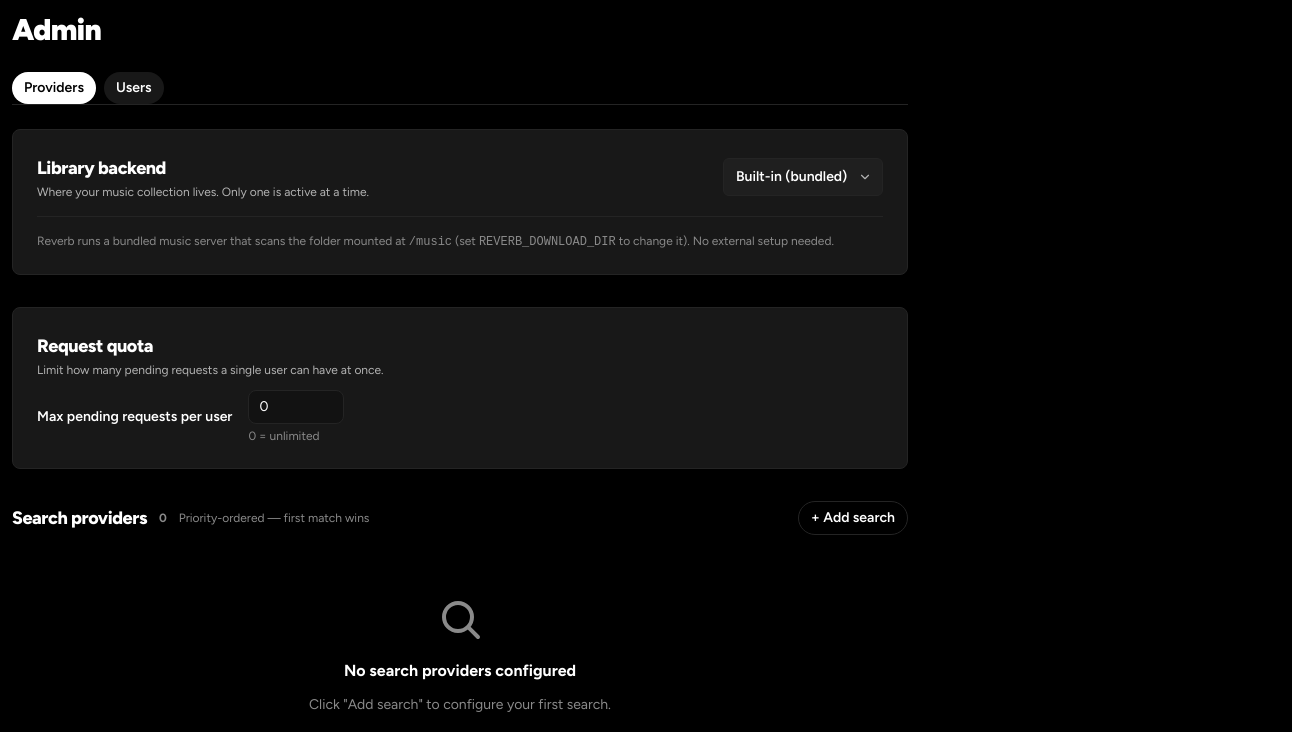
Scenario: Admin › clicking "Add search" opens the inline AdapterForm (single provider auto-selected)
What coordinates should you click on to do the following:
click the button "+ Add search"
I would click on:
 (853, 518)
Its box is [798, 501, 908, 535].
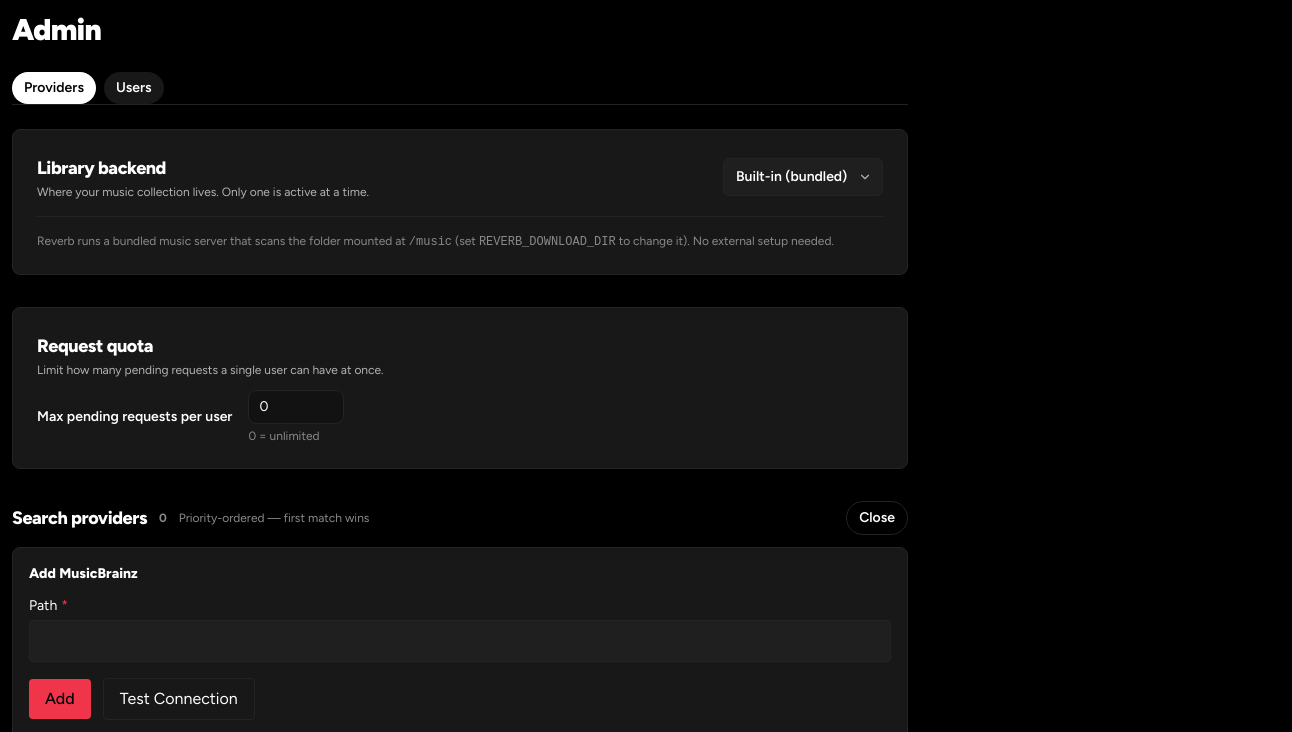
expect the heading "Add MusicBrainz" is shown: met, box [29, 564, 138, 584]
